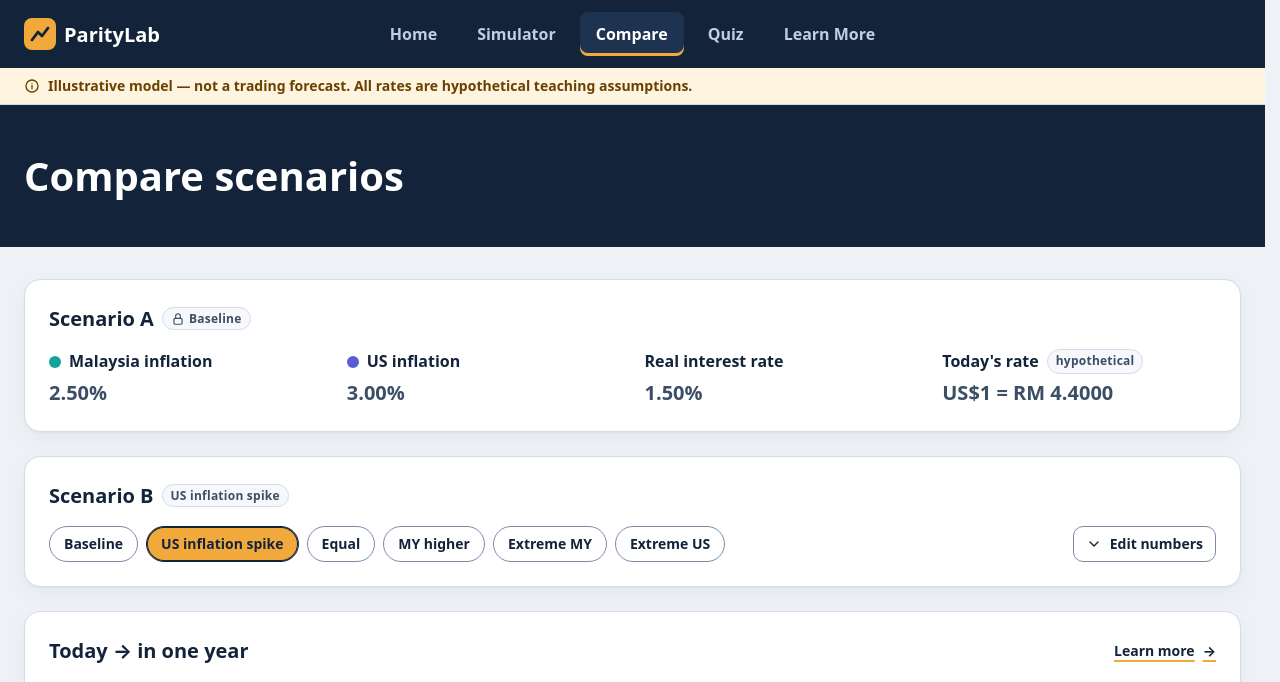
Test case: Layout stability (structure checks in jsdom) › Compare chips carry no icon and the changing Scenario B tag sits outside the chip row
The width and height of the screenshot is (1280, 682).
Click the button "Extreme MY": (550, 544) [493,526,607,562]
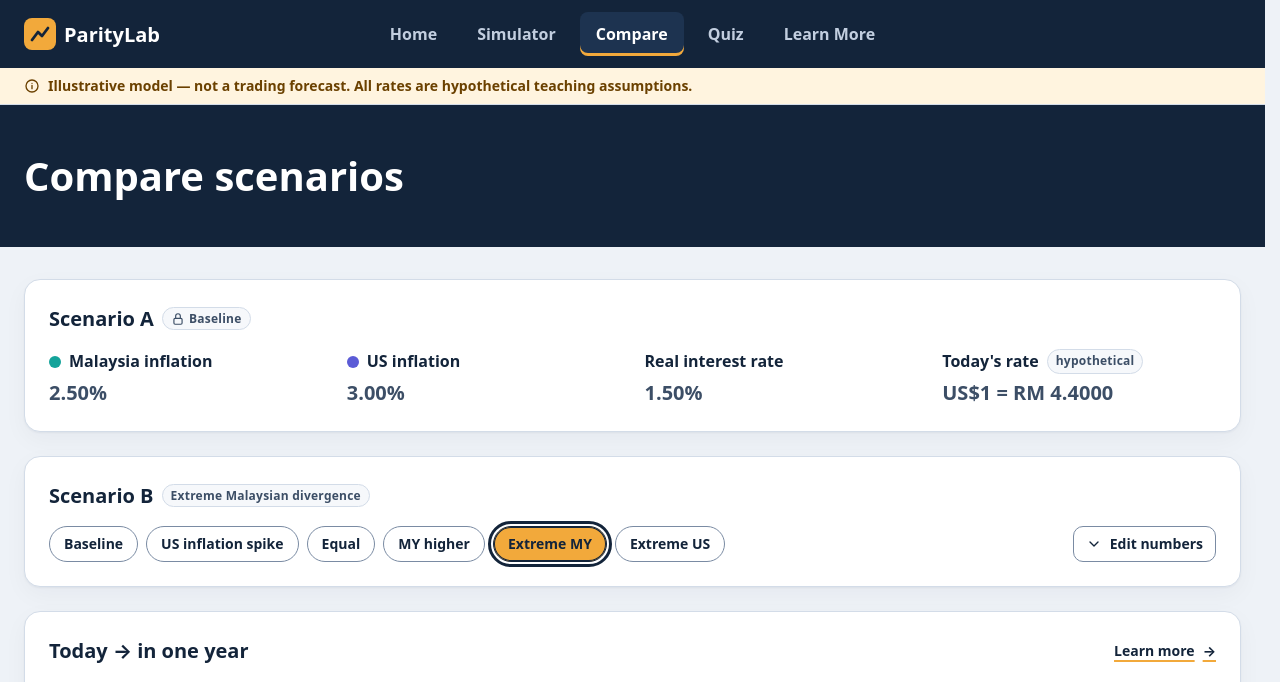
Check: the heading "Scenario B Extreme Malaysian divergence" is shown, box [49,482,370,509]
